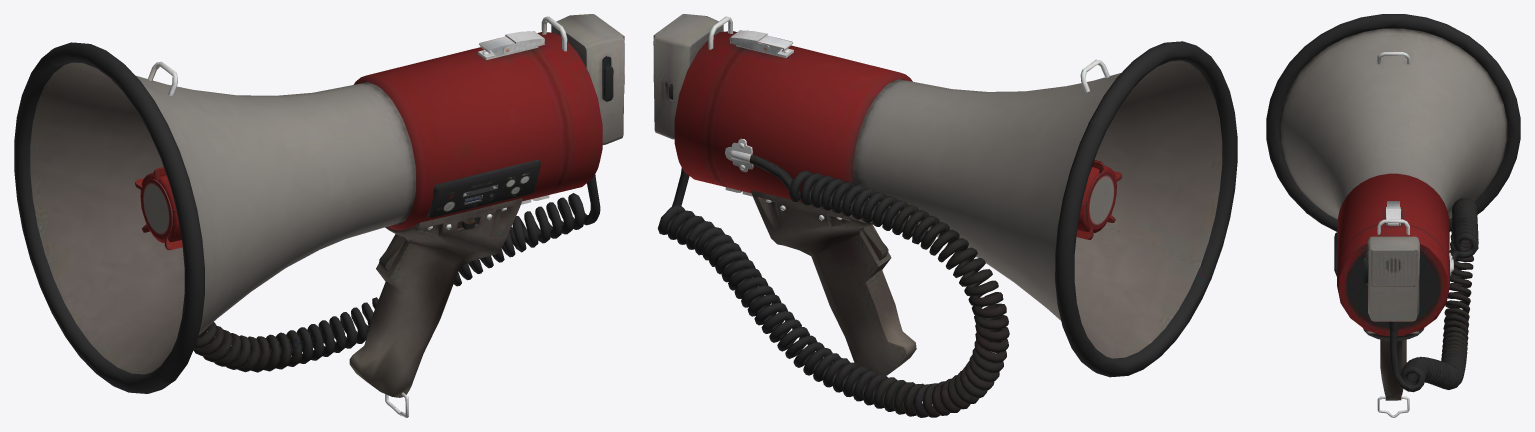
The model's file is ph_Megaphone_01.glb.
3 renders of one model, left to right at view 1: azimuth 30°, elevation 25°; view 2: azimuth 150°, elevation 25°; view 3: azimuth 270°, elevation 25°, orthographic. The views are drawn at different scales.
Visible parts, largest first — view 1: Megaphone_01; view 2: Megaphone_01; view 3: Megaphone_01.
Part boxes in pixels (x1,y1,x2,y2): Megaphone_01: (14,14,624,417); Megaphone_01: (653,14,1237,417); Megaphone_01: (1266,14,1520,417).
Size of the model in its own units: 0.3707 by 0.3 by 0.2281.
1 material, 1 textured.
